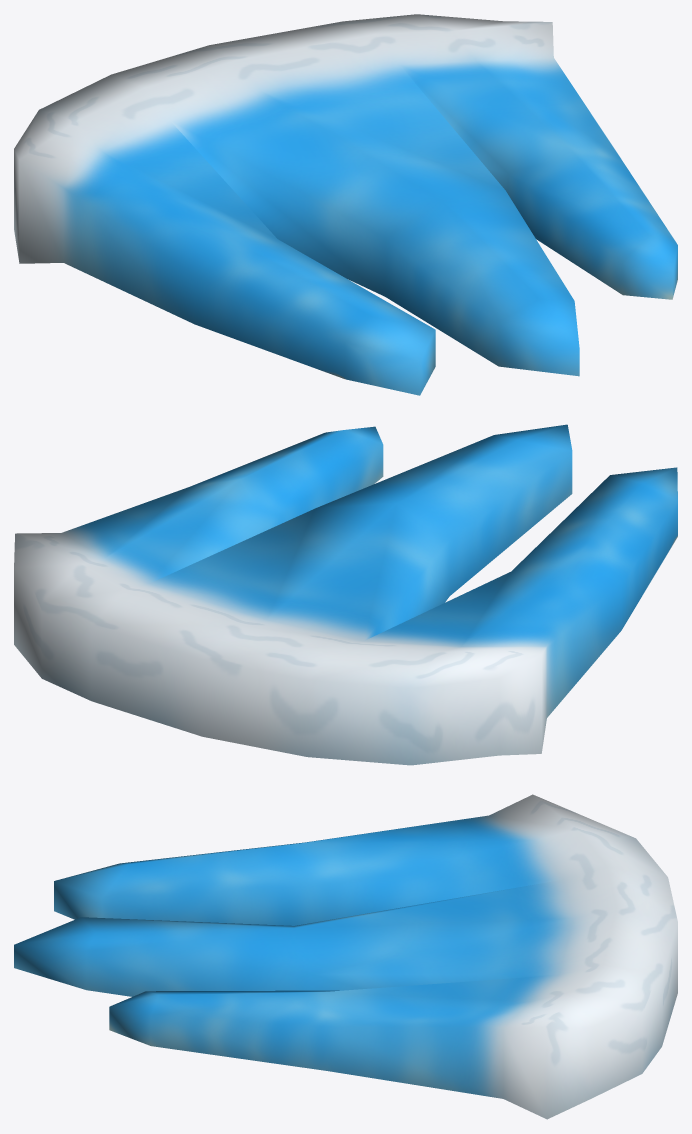
The model's file is Freezing.fbx.
The picture shows the model from 3 angles, top to bottom: view 1: azimuth 30°, elevation 25°; view 2: azimuth 150°, elevation 25°; view 3: azimuth 270°, elevation 25°; orthographic projection. The views are drawn at different scales.
Parts seen in each view (by area): view 1: Freezing; view 2: Freezing; view 3: Freezing.
Boxes of the visible parts, x1,y1,x2,y2 form: Freezing: [14, 14, 677, 395]; Freezing: [14, 424, 677, 765]; Freezing: [14, 794, 677, 1119].
Size of the model in its own units: 0.8455 by 0.155 by 1.02.
